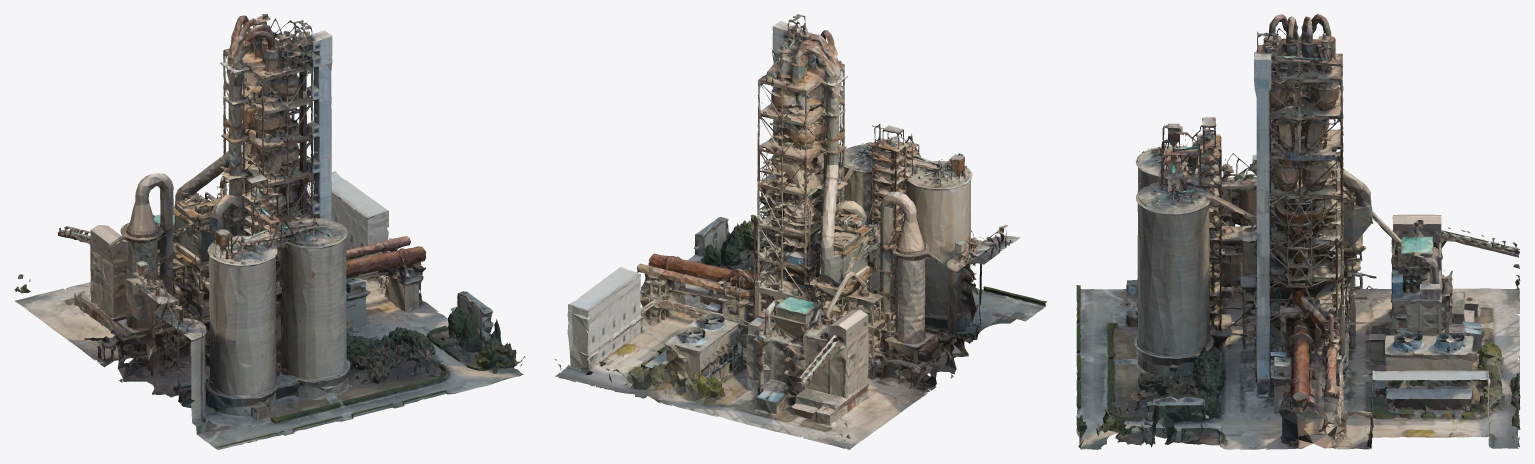
Rendered from cemento.glb.
3 renders of one model, left to right at view 1: azimuth 30°, elevation 25°; view 2: azimuth 150°, elevation 25°; view 3: azimuth 270°, elevation 25°, orthographic. The views are drawn at different scales.
Visible parts, largest first — view 1: m.obj; view 2: m.obj; view 3: m.obj.
Part boxes in pixels (bbox=[...]): m.obj: bbox=[14, 14, 525, 449]; m.obj: bbox=[554, 14, 1047, 449]; m.obj: bbox=[1076, 14, 1520, 449].
Size of the model in its own units: 200 by 203 by 232.
1 material, 1 textured.
